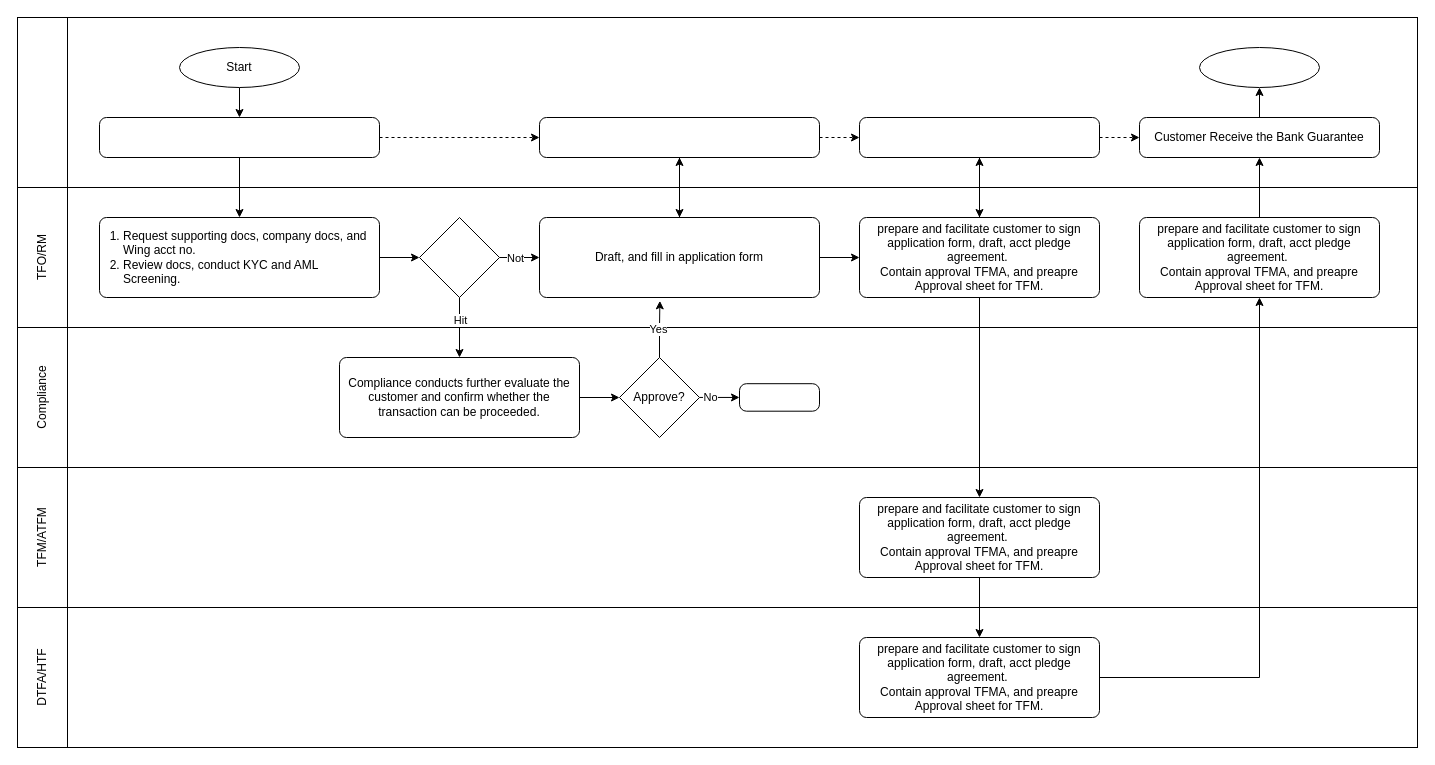
The diagram is 1435 pixels wide and 765 high, and some of its shapes have lost their labels. Each missing label, with the centre of its shape:
Confirm Draft, and deposit: (x=679, y=137)
Customer: (x=42, y=102)
Customer requests issuing a Bank Guarantee.: (x=239, y=137)
End: (x=1259, y=67)
Reject: (x=779, y=397)
Result?: (x=459, y=257)
Sign Application Form, Acct Pledge Agreement, relevant: (x=979, y=137)
